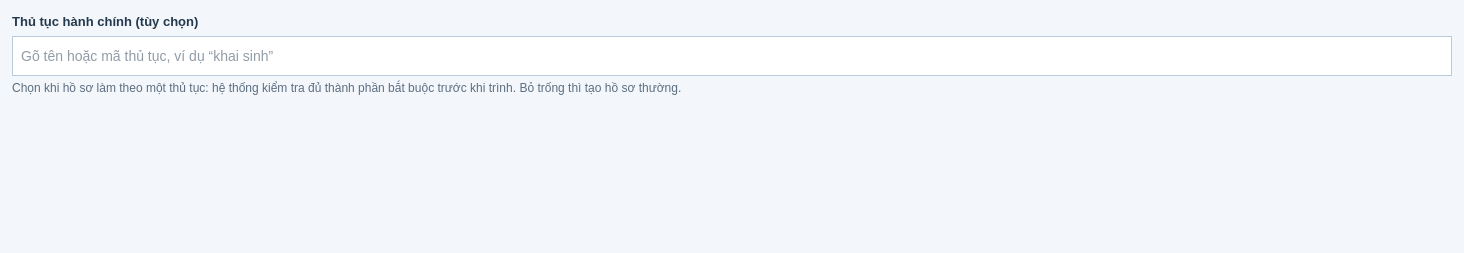
ProcedurePicker › chọn một thủ tục thì tải thành phần và báo cho form; hiện số thành phần bắt buộc
Type "khai" into the dropdown. click: (732, 56)
box: [12, 36, 1452, 76]
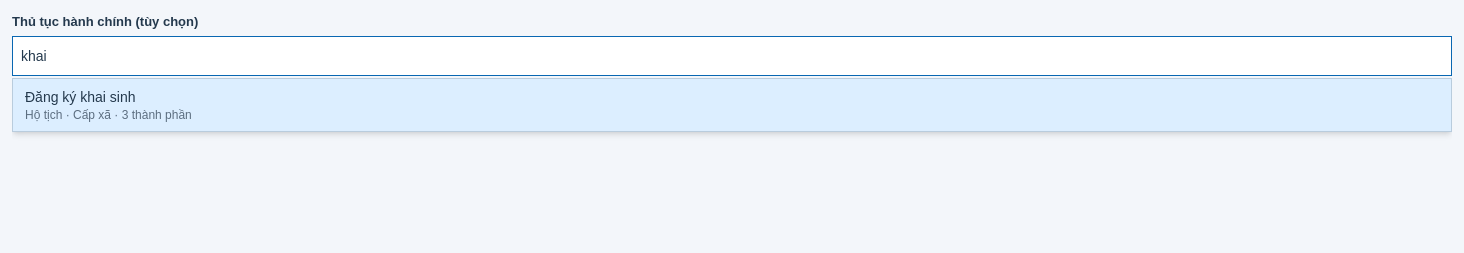
Click the option "Đăng ký khai sinh Hộ tịch · Cấp xã · 3 thành phần". click: (80, 97)
box: [13, 79, 1451, 131]
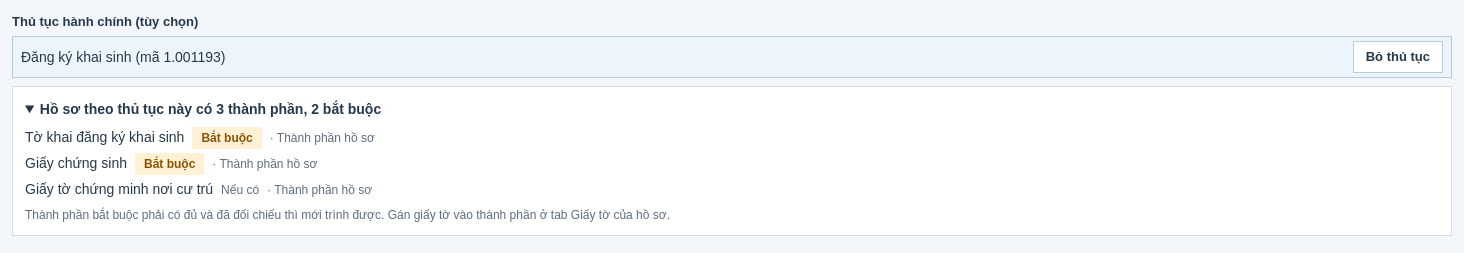
Now the heading "Hồ sơ theo thủ tục này có 3 thành phần, 2 bắt buộc" is shown, box [40, 101, 381, 117]
Now the text "Bắt buộc" is shown 2 times, box [192, 127, 262, 149]; [135, 153, 204, 175]
Now the text "Nếu có" is shown, box [221, 182, 259, 198]
